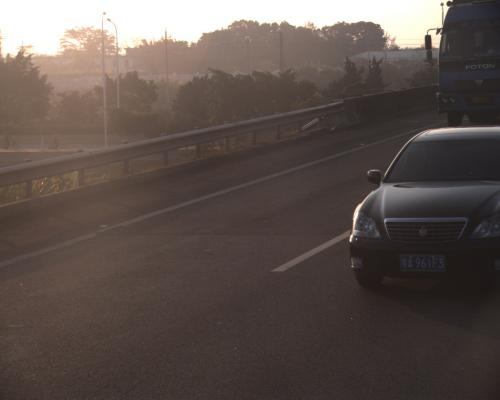Carplate: (395, 249, 449, 278)
